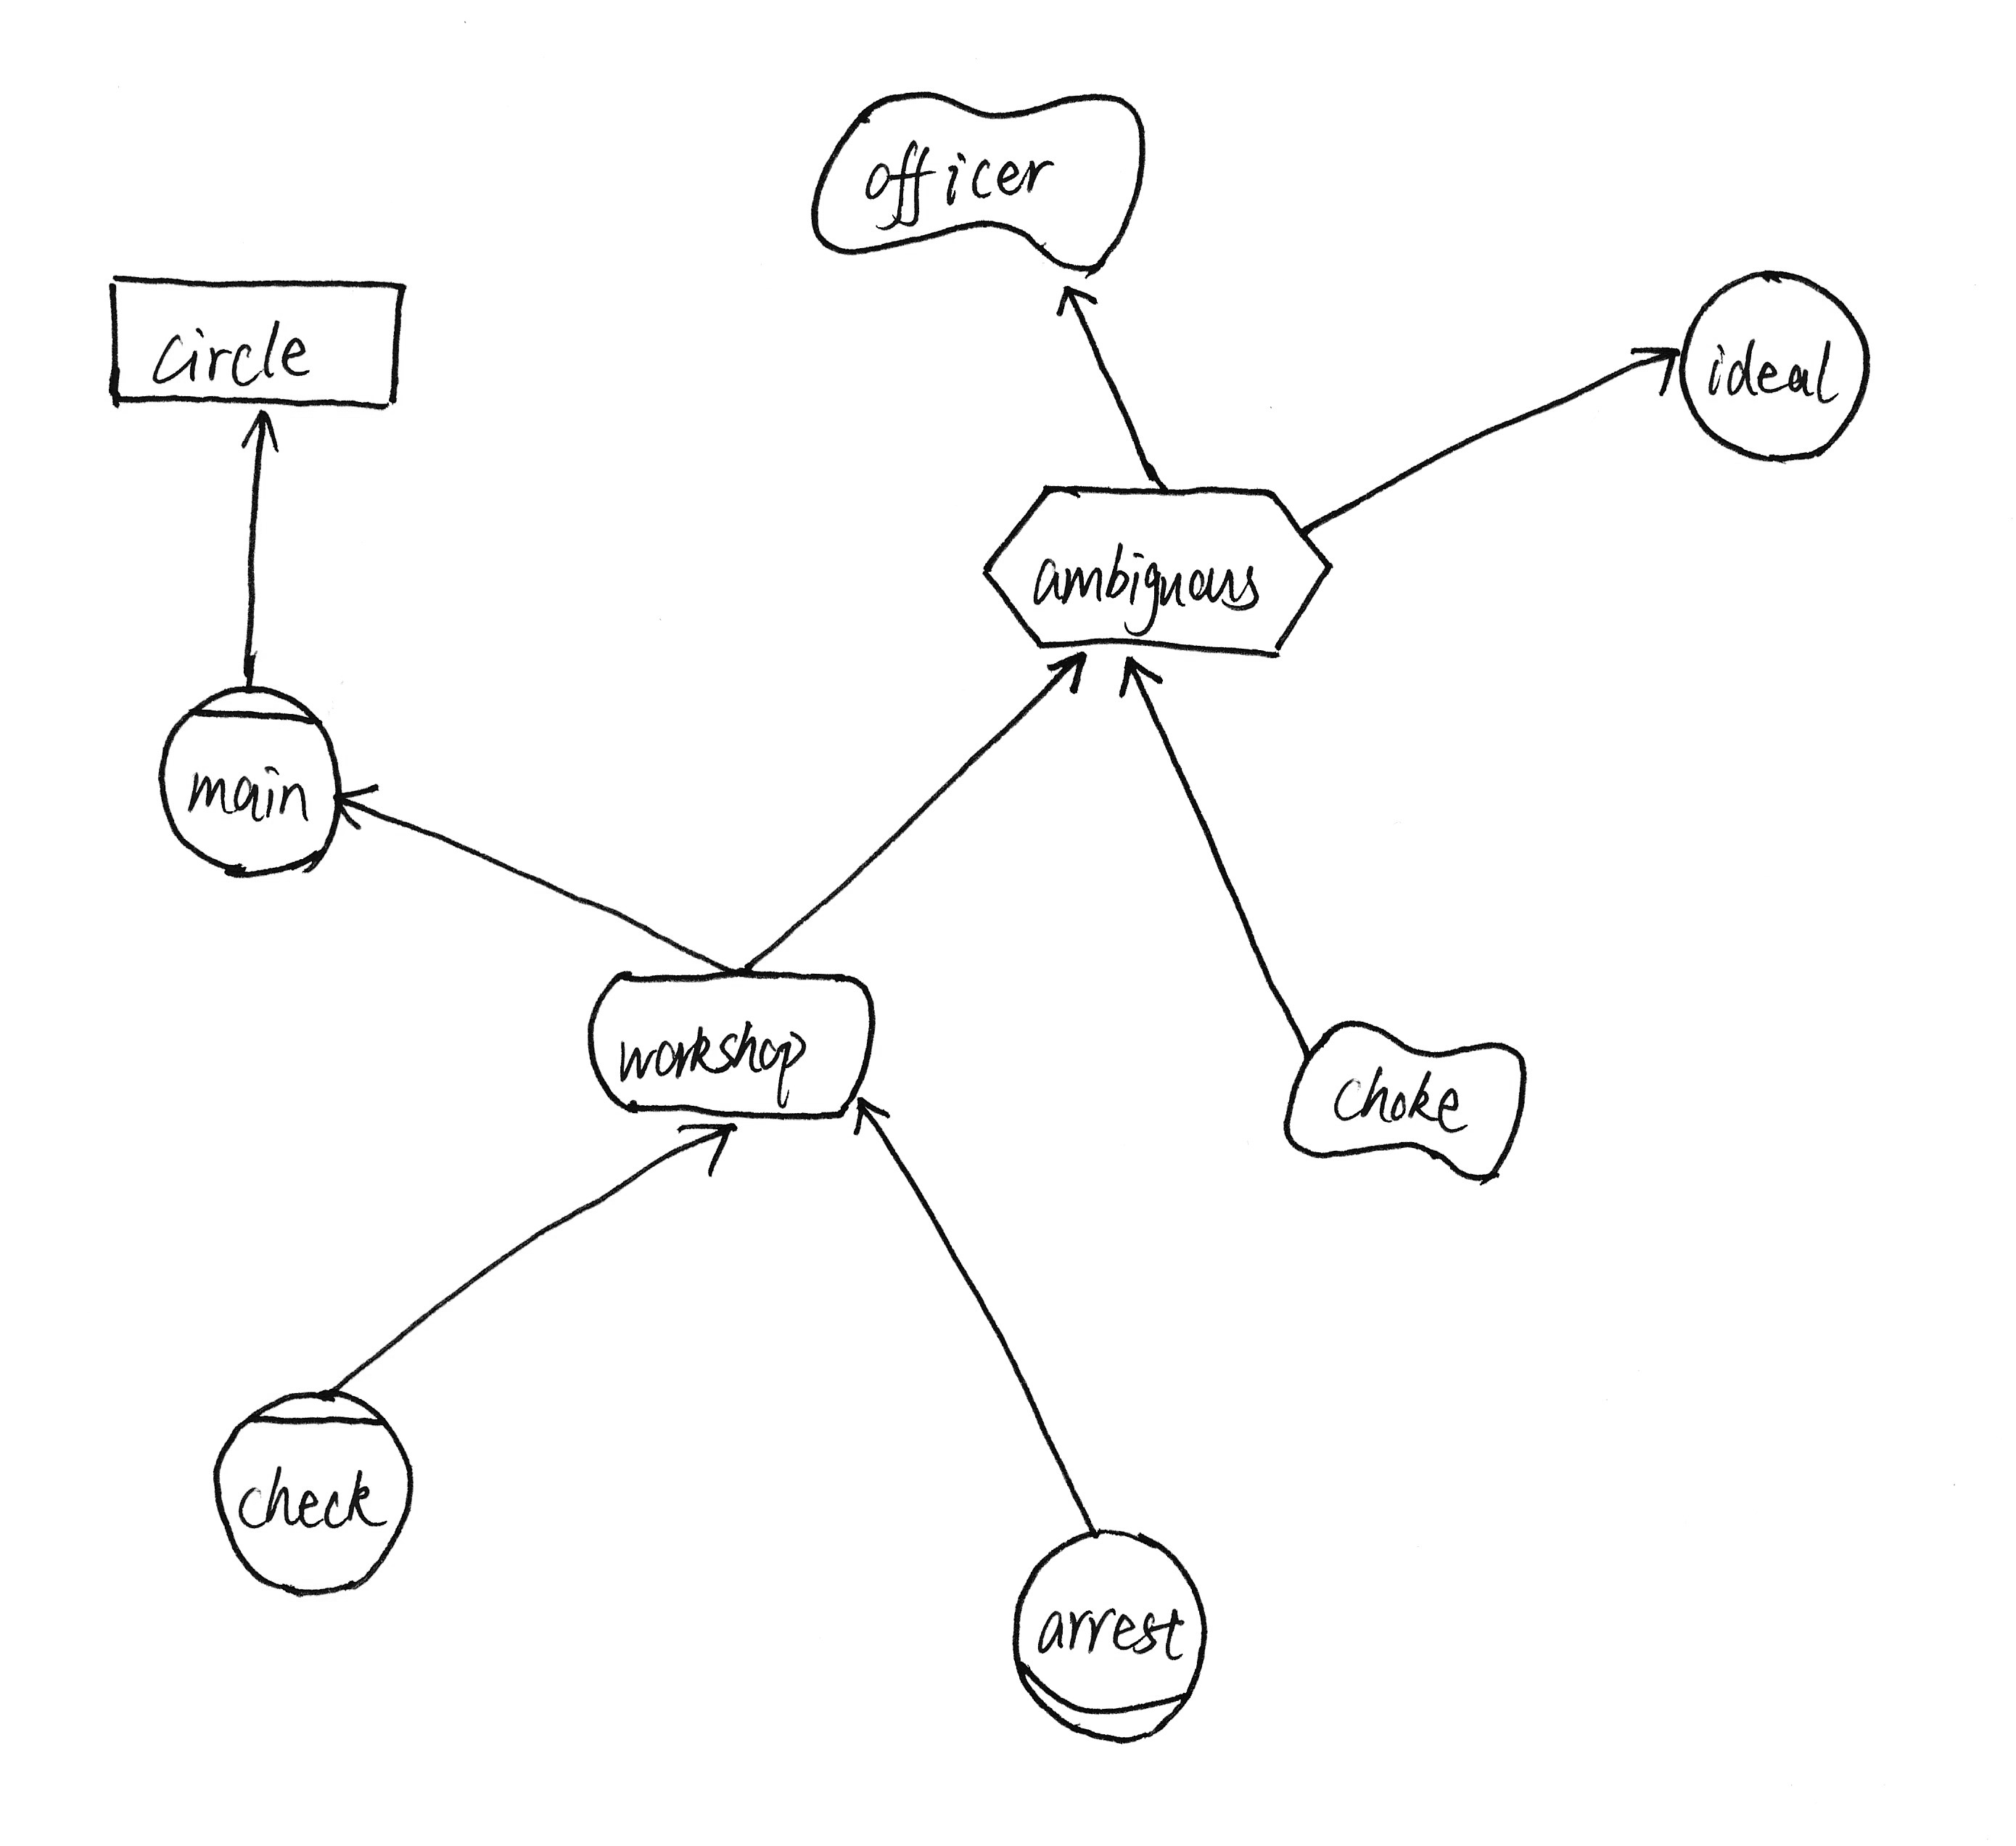actor: (1661, 262, 1886, 480)
agent: (198, 1372, 434, 1607), (149, 667, 362, 887)
arrow: (667, 1110, 755, 1187), (1617, 325, 1684, 406), (1103, 646, 1178, 710), (220, 399, 292, 460), (328, 776, 393, 840), (841, 1089, 906, 1150), (1034, 648, 1096, 710), (1048, 278, 1113, 335)
goal: (576, 959, 890, 1135)
quality: (792, 72, 1178, 288), (1273, 1010, 1538, 1207)
resource: (88, 255, 428, 422)
role: (997, 1516, 1228, 1760)
task: (962, 464, 1333, 687)
